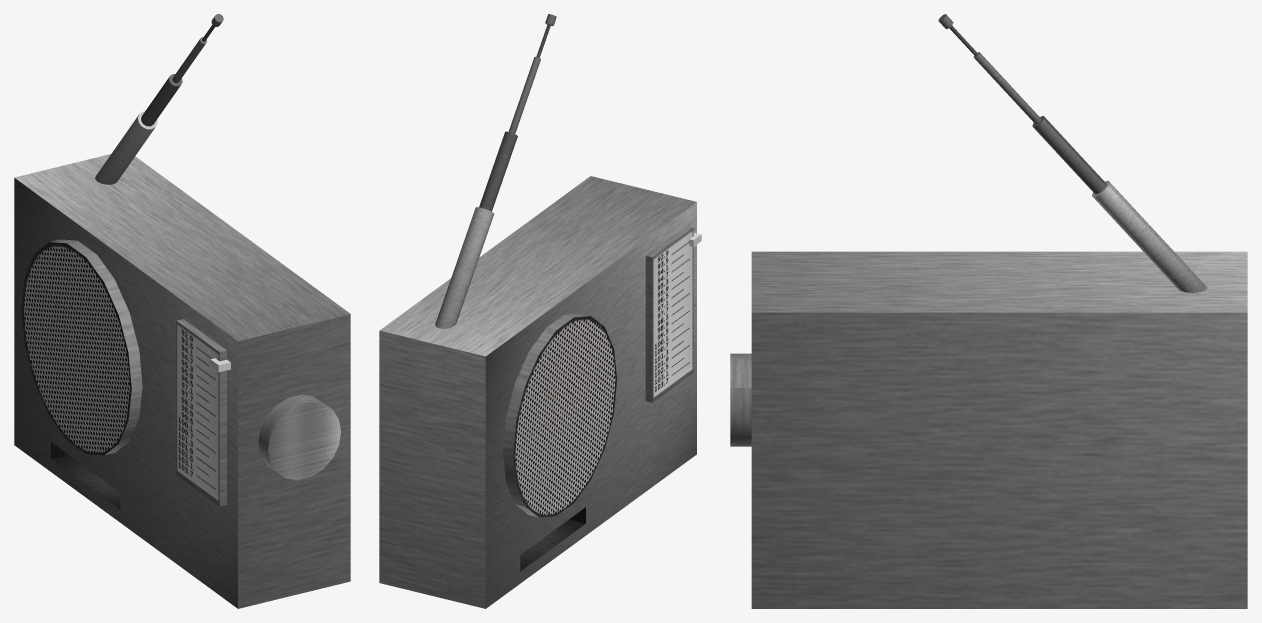
The model's file is Radio.fbx.
3 views of the same model, side by side, from view 1: azimuth 30°, elevation 25°; view 2: azimuth 150°, elevation 25°; view 3: azimuth 270°, elevation 25° (orthographic). The views are drawn at different scales.
Parts seen in each view (by area): view 1: Box001, Object001, Antenna; view 2: Box001, Antenna; view 3: Box001, Antenna, Object001.
Boxes of the visible parts, x1,y1,x2,y2 form: Box001: (14,154,350,608); Object001: (258,394,340,480); Antenna: (95,14,223,184); Box001: (379,176,696,608); Antenna: (435,14,556,328); Box001: (751,251,1247,608); Antenna: (938,14,1207,292); Object001: (730,353,751,446).
Bounding box in the file's own units: 28.91 × 114 × 93.79.
2 materials, 2 textured.
